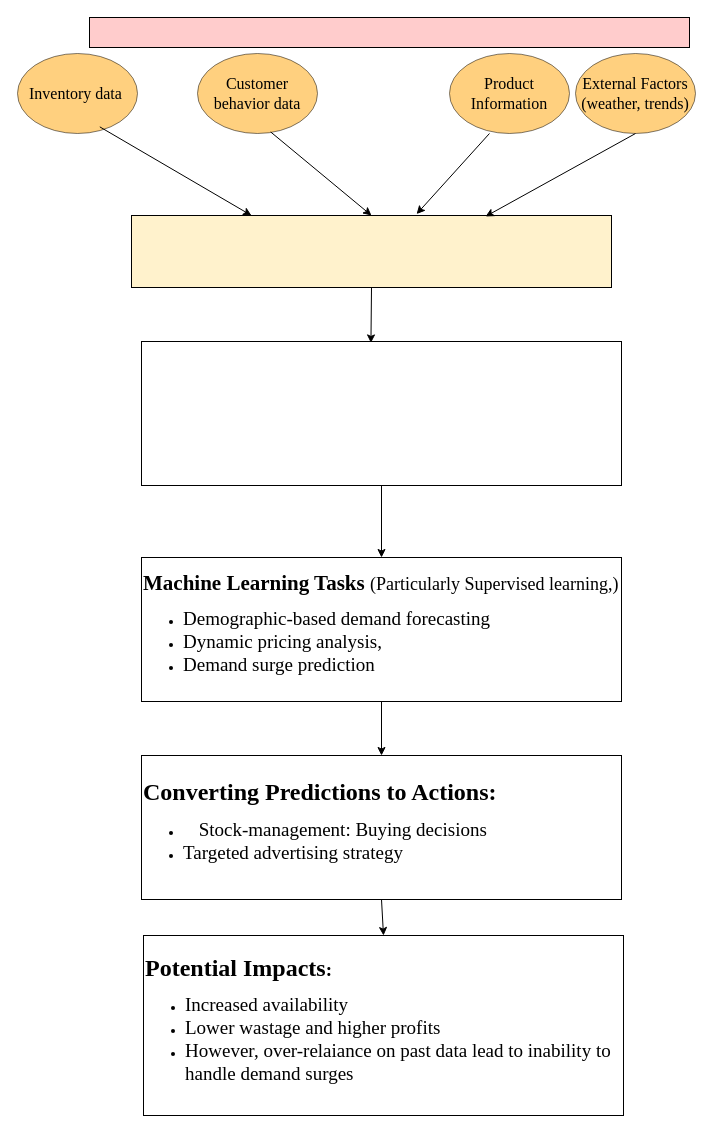
The diagram is 713 pixels wide and 1133 high, and some of its shapes have lost their labels. Each missing label, with the box of its shape:
Processing : Normalisation, Cleaning, Contextualising, Examining outliers.: (140, 340, 622, 486)
Raw Data Collection: (130, 214, 612, 288)
Raw Data Sources: (88, 16, 690, 48)
